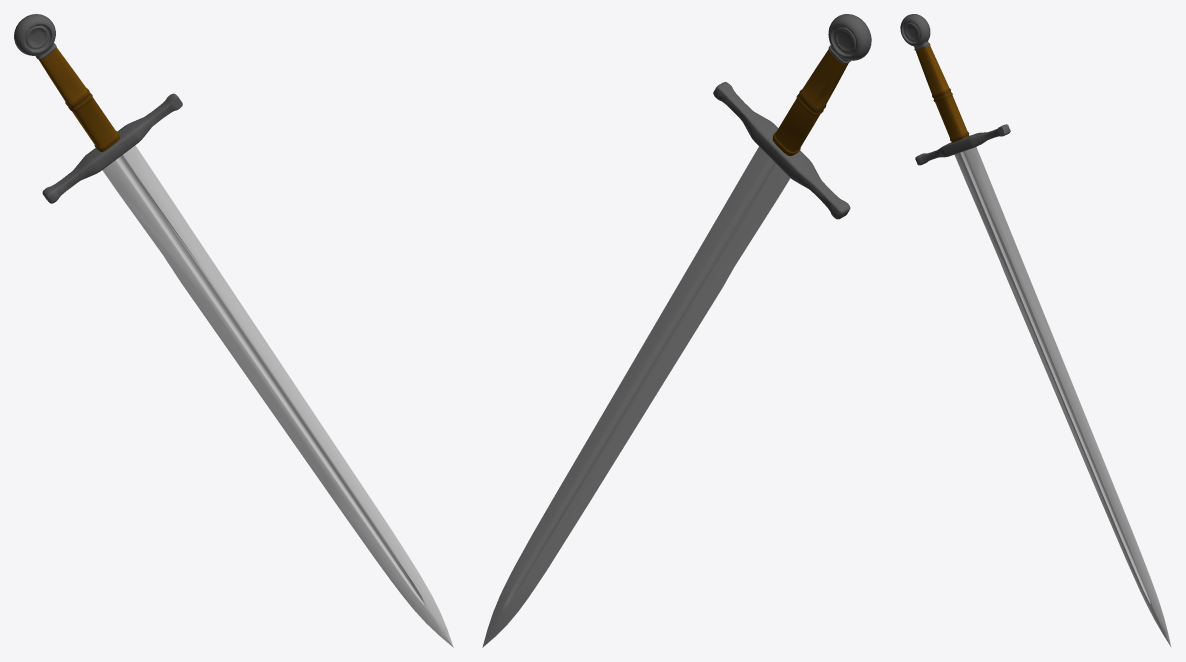
The model's file is Sword.fbx.
3 renders of one model, left to right at view 1: azimuth 30°, elevation 25°; view 2: azimuth 150°, elevation 25°; view 3: azimuth 330°, elevation 25°, orthographic. The views are drawn at different scales.
Parts seen in each view (by area): view 1: Sword; view 2: Sword; view 3: Sword.
Boxes of the visible parts, x1,y1,x2,y2 form: Sword: (14,14,453,647); Sword: (482,14,871,647); Sword: (900,14,1171,647).
Size of the model in its own units: 5082 by 8542 by 1126.
